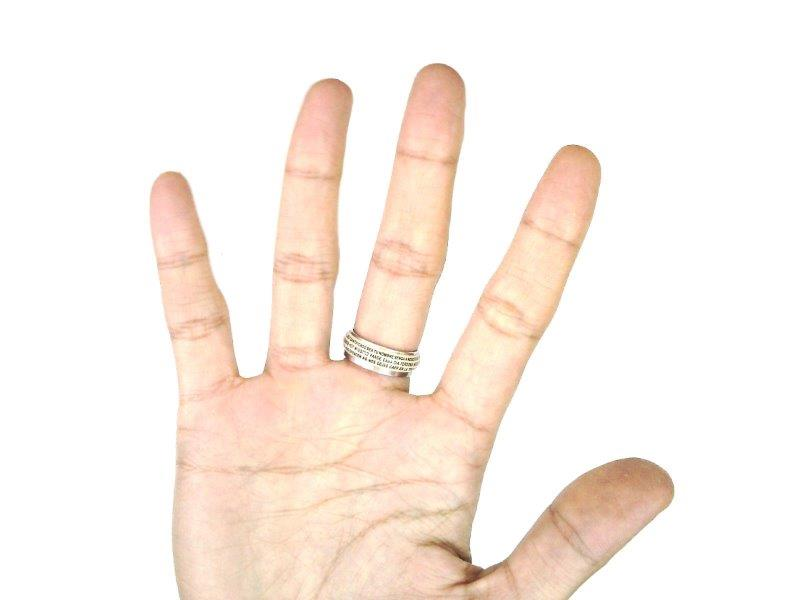hand: (150, 59, 675, 600)
